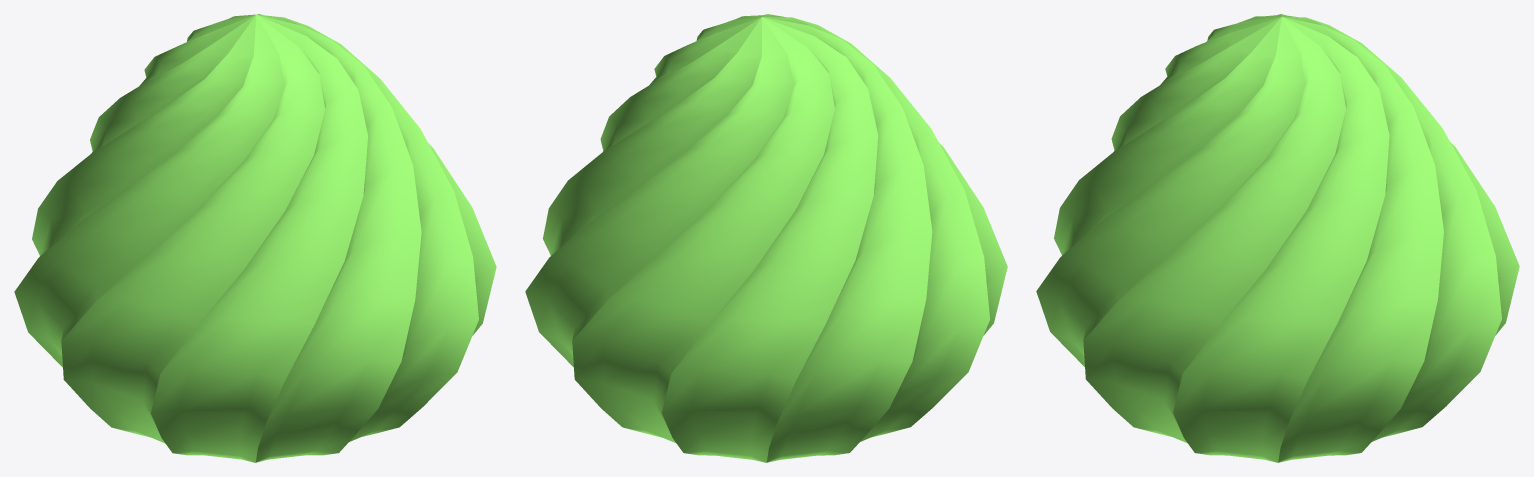
File: Ice Cream Spiral B Green.fbx
3 renders of one model, left to right at view 1: azimuth 30°, elevation 25°; view 2: azimuth 150°, elevation 25°; view 3: azimuth 270°, elevation 25°, orthographic.
Parts seen in each view (by area): view 1: Ice Cream Spiral B Green; view 2: Ice Cream Spiral B Green; view 3: Ice Cream Spiral B Green.
Boxes of the visible parts, <box> form: Ice Cream Spiral B Green: <box>14,14,496,462</box>; Ice Cream Spiral B Green: <box>525,14,1007,462</box>; Ice Cream Spiral B Green: <box>1036,14,1519,462</box>.
Bounding box in the file's own units: 0.4173 × 0.3732 × 0.4173.
